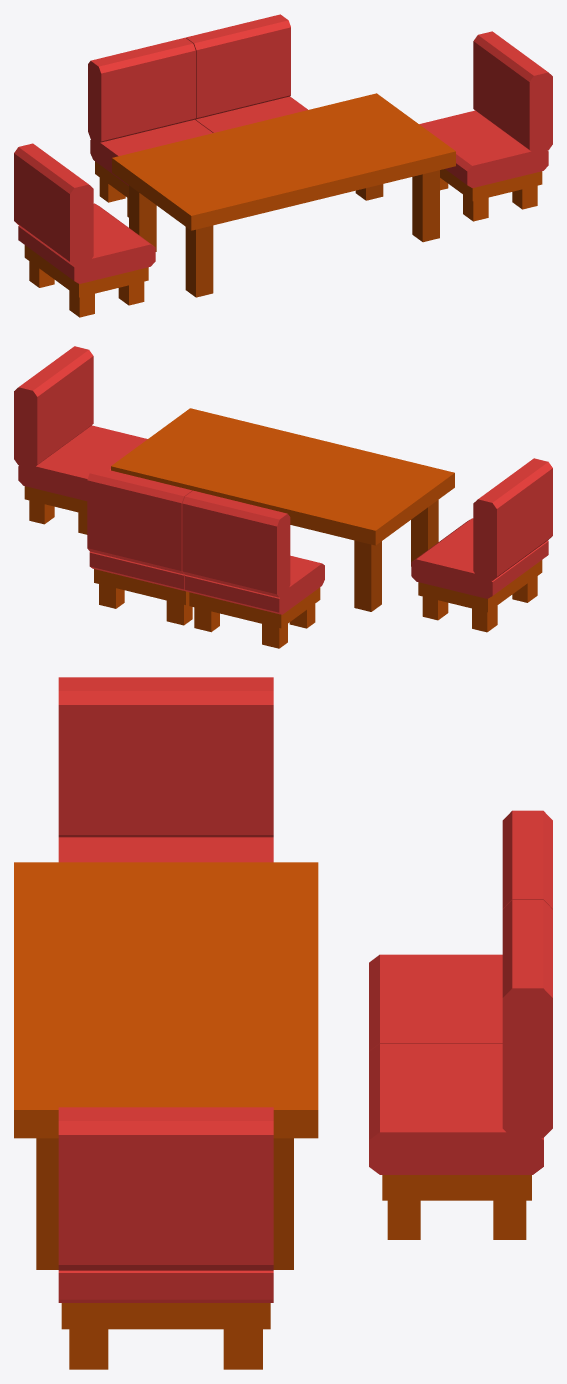
Rendered from Guest Table and Chair lv1.fbx.
3 renders of one model, top to bottom at view 1: azimuth 30°, elevation 25°; view 2: azimuth 150°, elevation 25°; view 3: azimuth 270°, elevation 25°, orthographic. The views are drawn at different scales.
Parts seen in each view (by area): view 1: Guest_Table_and_Chair_lv1; view 2: Guest_Table_and_Chair_lv1; view 3: Guest_Table_and_Chair_lv1.
Part boxes in pixels (bbox=[...]): Guest_Table_and_Chair_lv1: bbox=[14, 14, 552, 317]; Guest_Table_and_Chair_lv1: bbox=[14, 346, 552, 648]; Guest_Table_and_Chair_lv1: bbox=[14, 677, 552, 1369].
Bounding box in the file's own units: 652 × 172 × 329.
